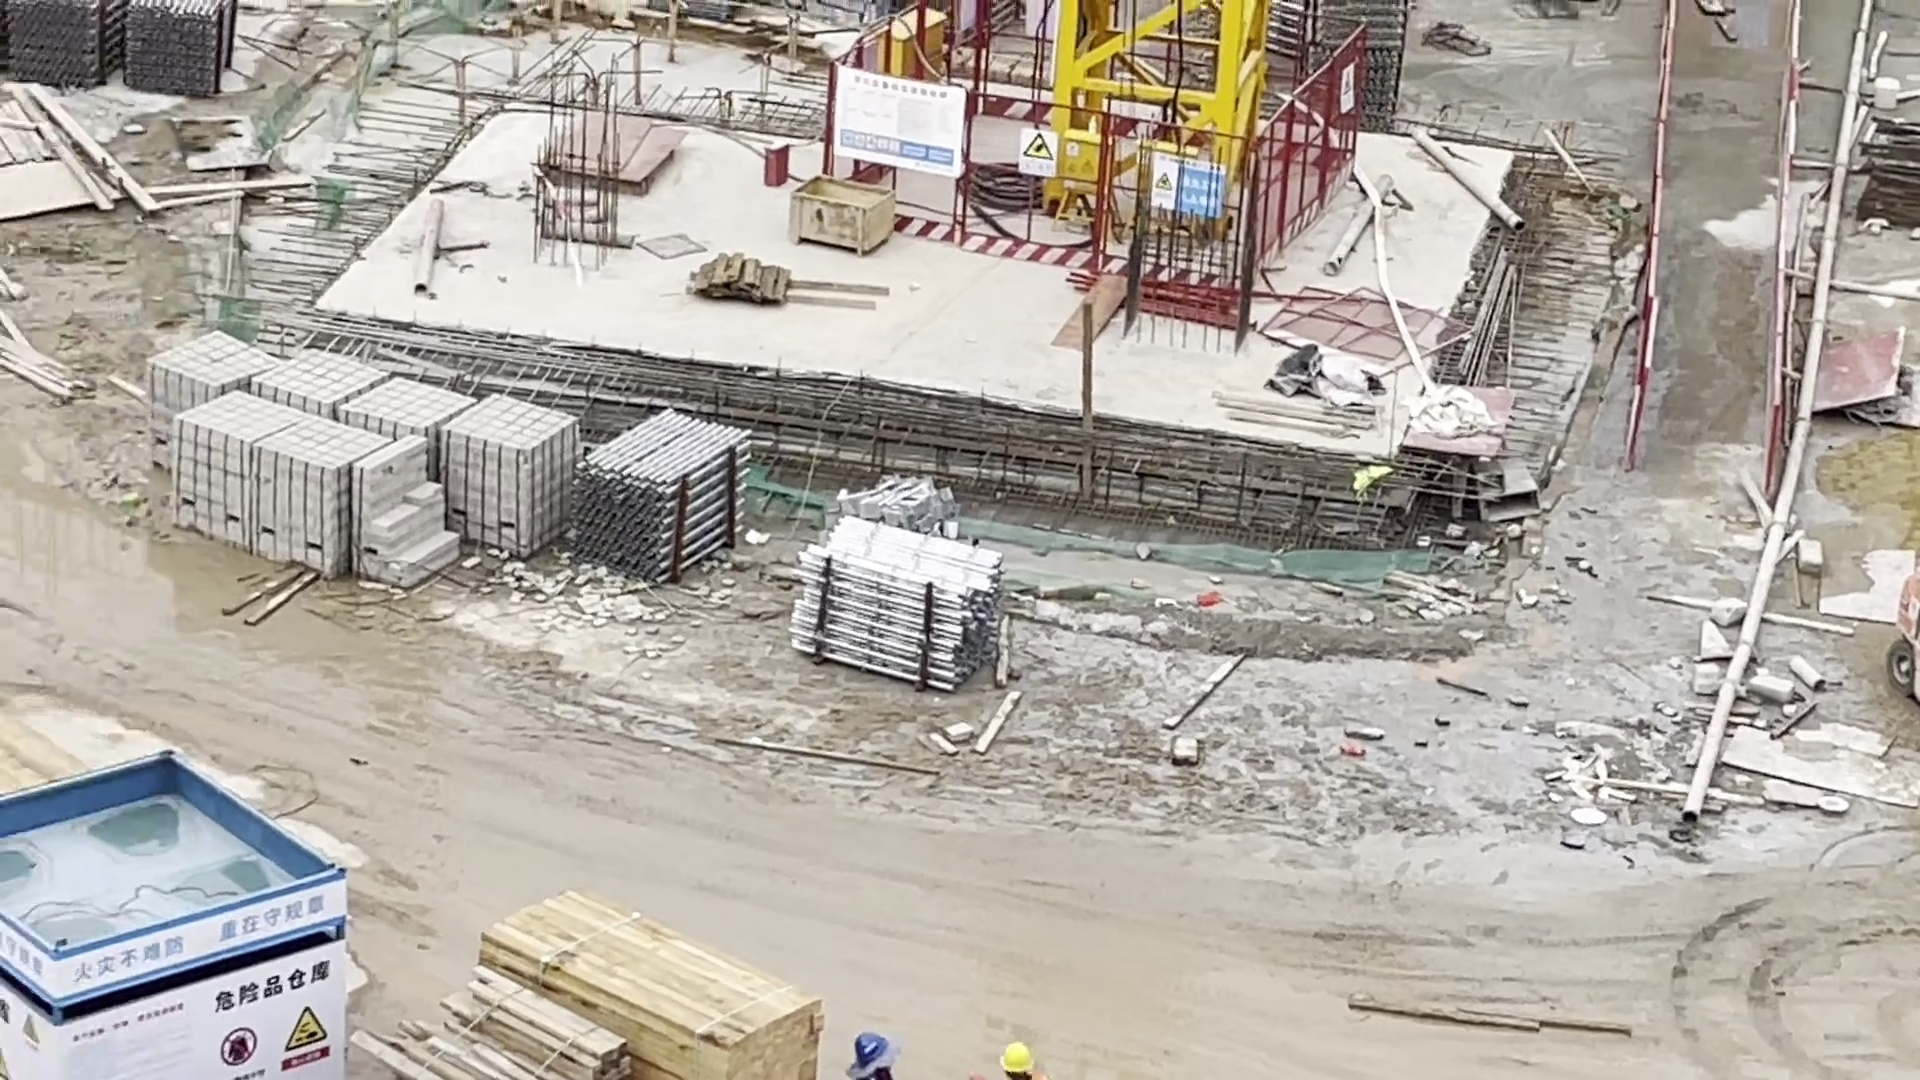brick: (134, 326, 579, 593)
ebox: (1051, 128, 1198, 222), (873, 12, 957, 92)
fence: (822, 4, 1406, 362), (1619, 5, 1807, 492)
helmet: (843, 1016, 904, 1080), (978, 1026, 1042, 1080)
hopper: (784, 169, 907, 255)
person: (842, 1018, 905, 1080), (981, 1030, 1047, 1080)
scaffold: (791, 511, 999, 700), (572, 389, 754, 597), (2, 3, 248, 123)
slogan: (60, 881, 357, 1080), (822, 53, 980, 185), (2, 909, 64, 1080), (1137, 146, 1234, 231), (1004, 116, 1054, 185)
wood: (365, 880, 857, 1080)
